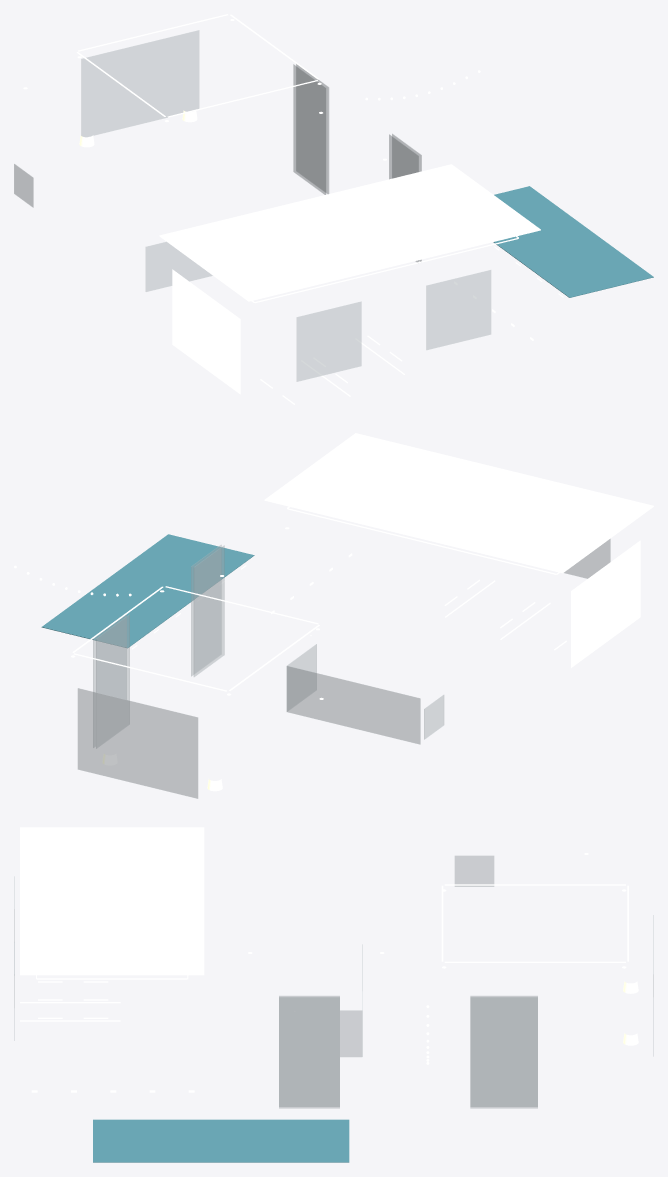
3 renders of one model, top to bottom at view 1: azimuth 30°, elevation 25°; view 2: azimuth 150°, elevation 25°; view 3: azimuth 270°, elevation 25°, orthographic. The views are drawn at different scales.
Visible parts, largest first — view 1: zone_sf_fx, zone_sf_glass; view 2: zone_sf_fx, zone_sf_glass; view 3: zone_sf_fx, zone_sf_glass.
Part boxes in pixels (x1,y1,x2,y2): zone_sf_fx: (23,14,563,404); zone_sf_glass: (14,30,653,381); zone_sf_fx: (14,433,653,791); zone_sf_glass: (41,534,610,798); zone_sf_fx: (20,827,638,1092); zone_sf_glass: (14,856,653,1162).
Size of the model in its own units: 10.82 by 3.07 by 13.04.
